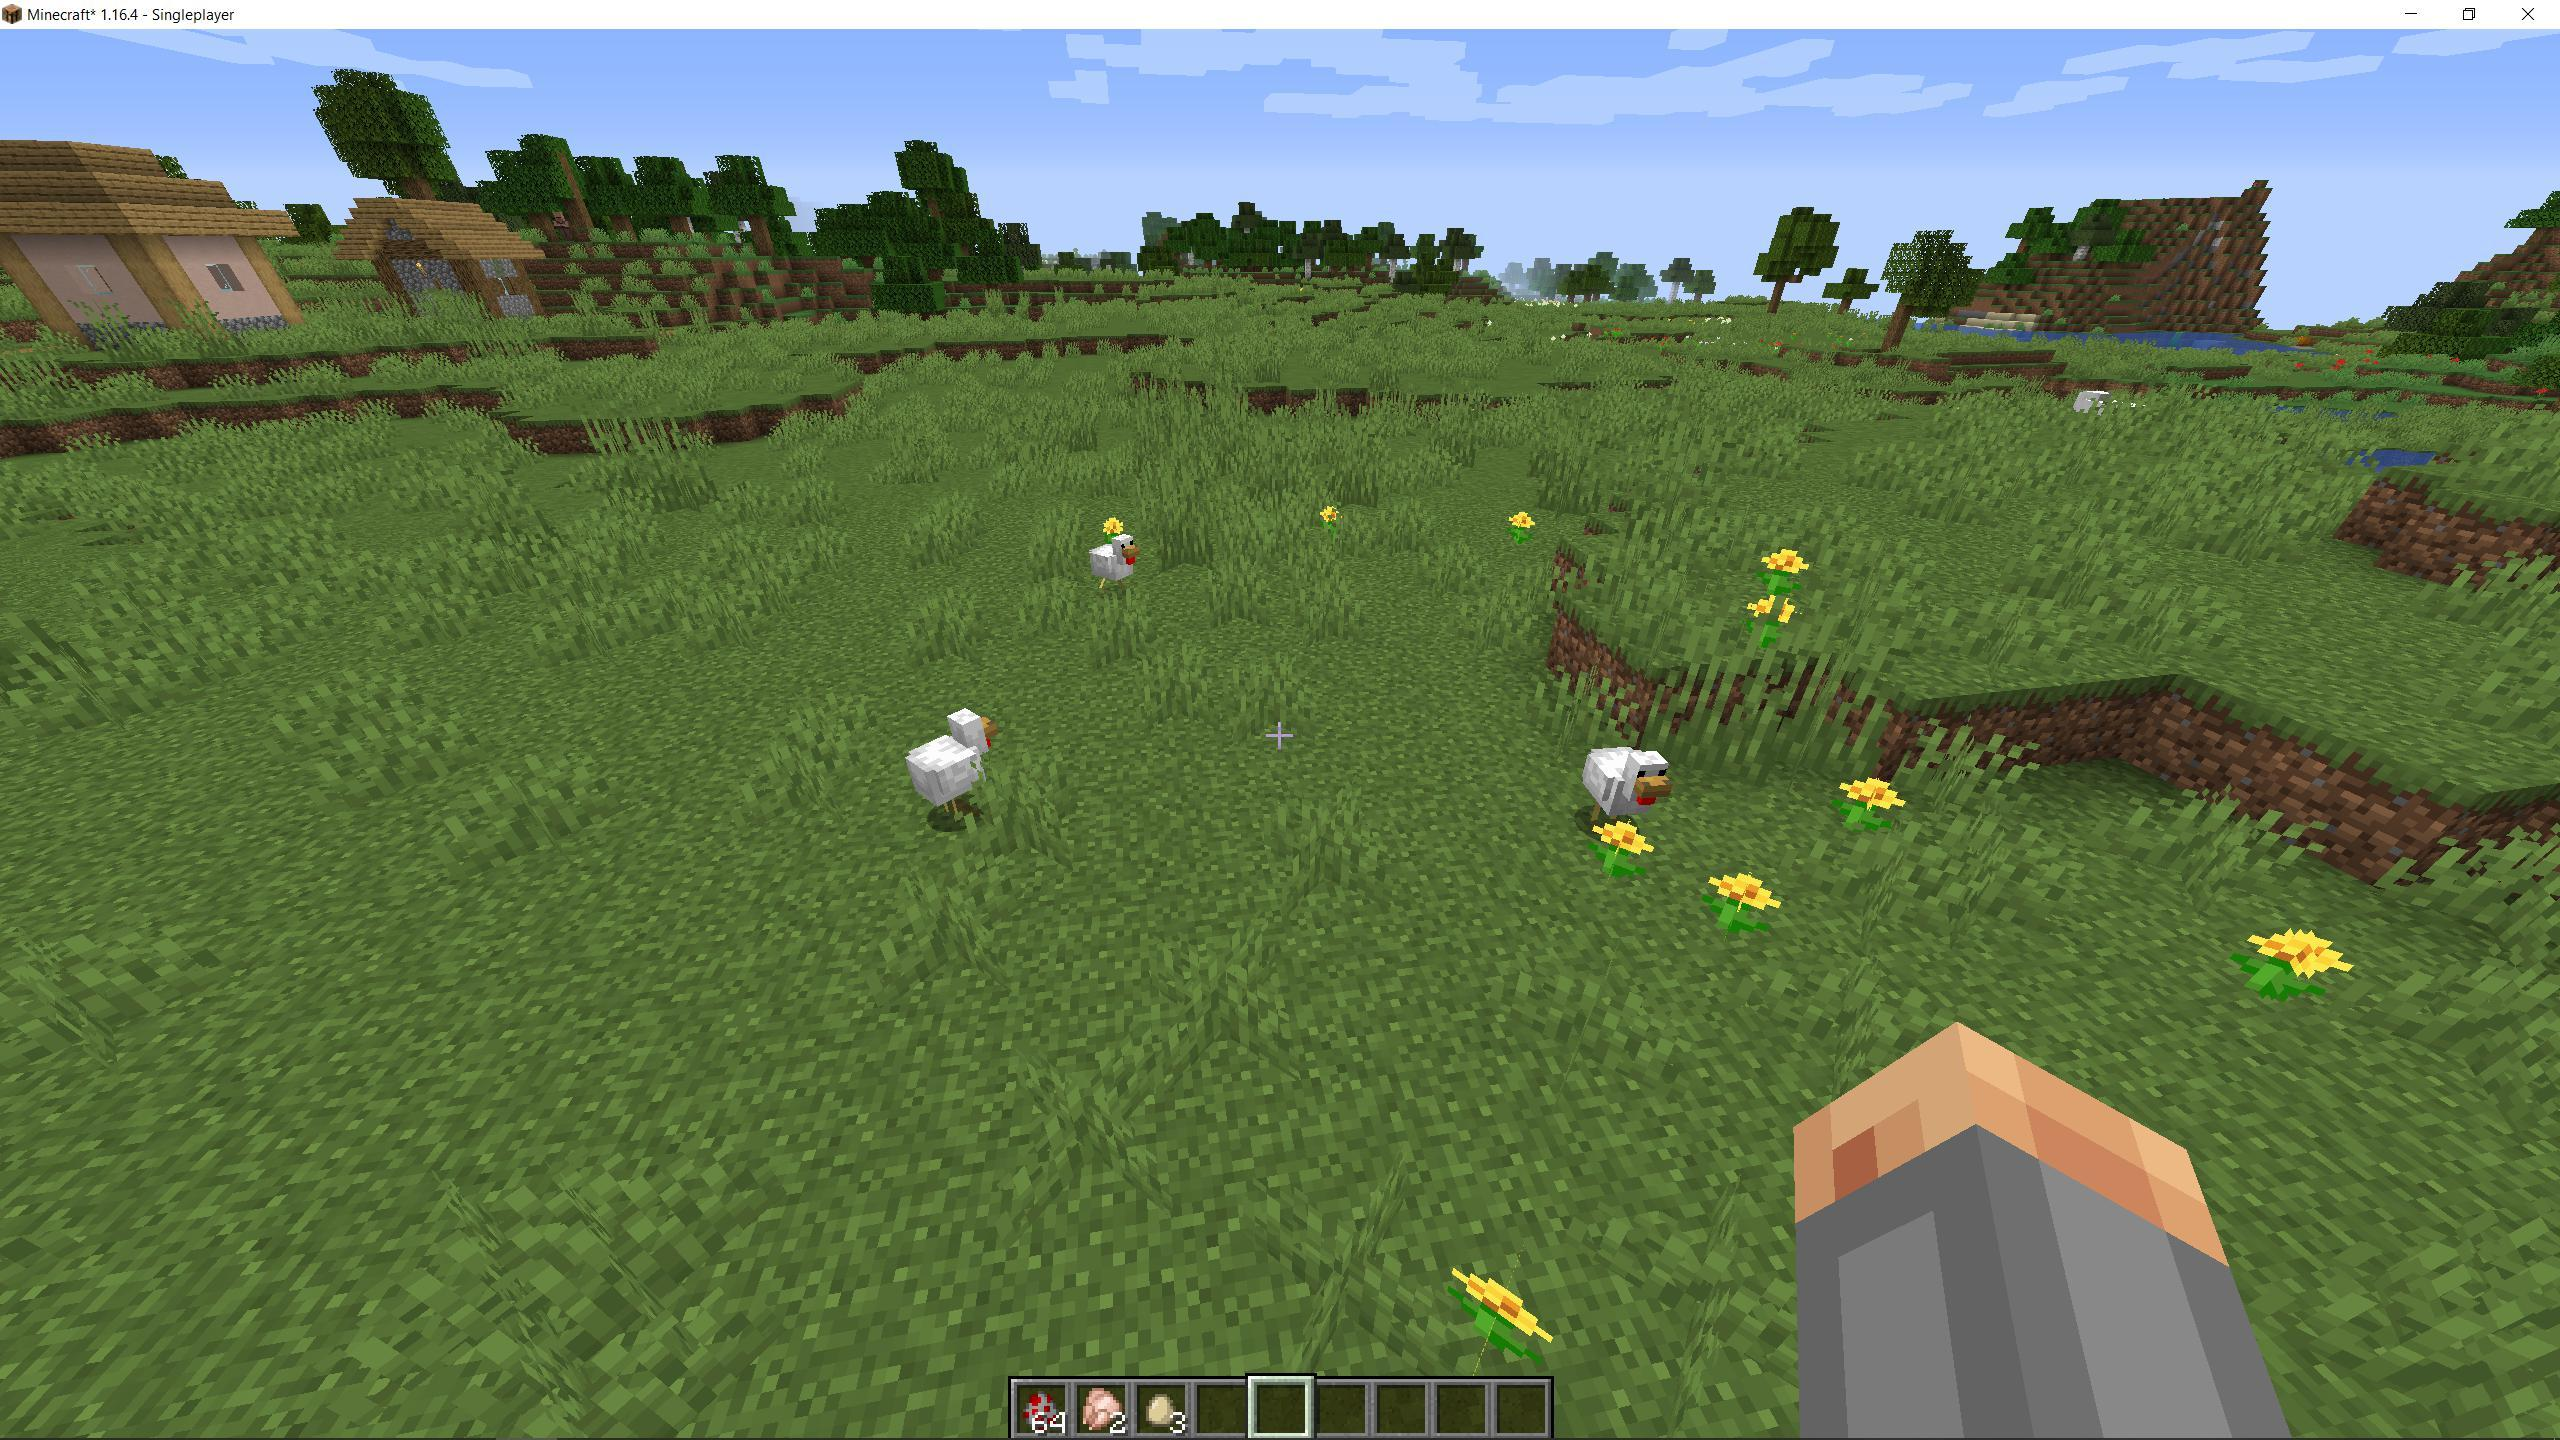chicken: (898, 696, 1022, 842), (1575, 735, 1676, 851), (1080, 526, 1145, 594)
